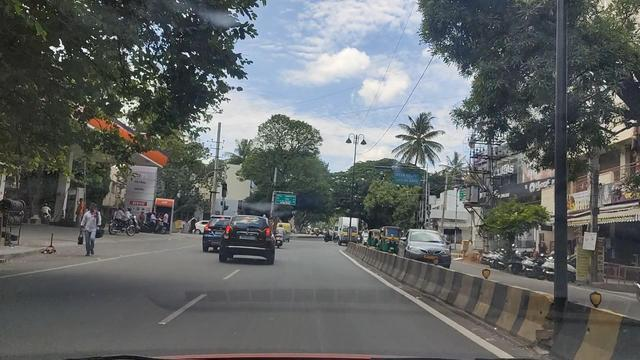LMV: (224, 215, 277, 264)
